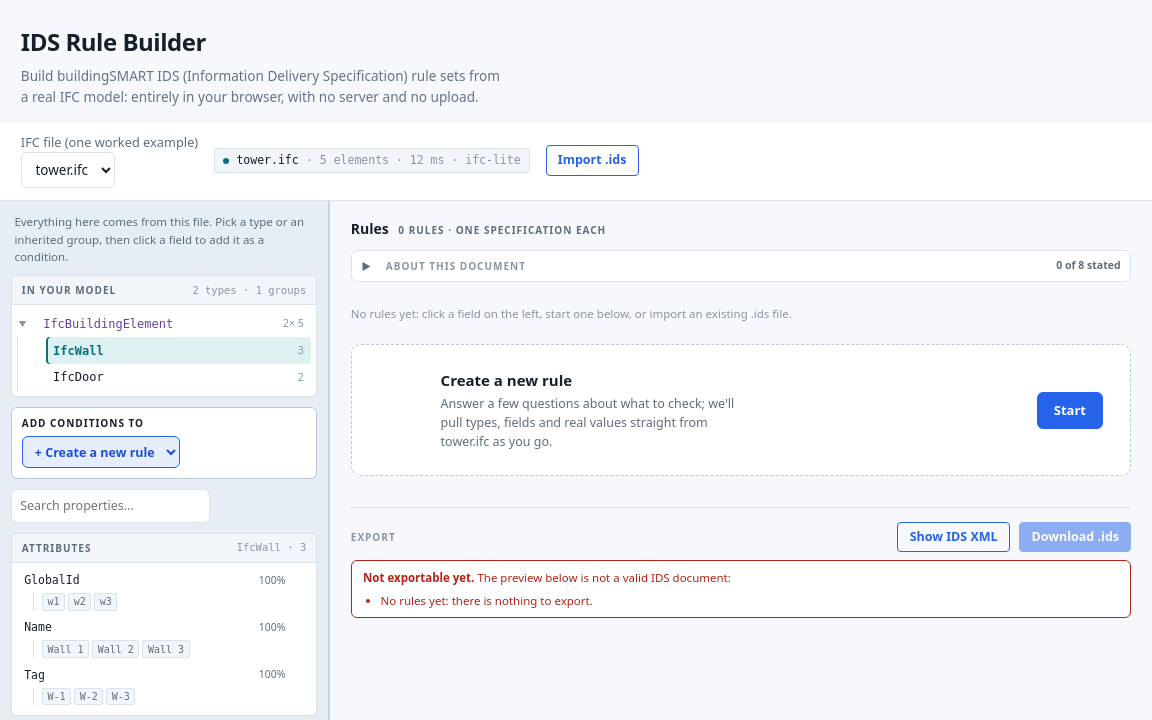
it: RuleBuilderPage › sorts properties alphabetically and narrows them with the search box
This screenshot has width=1152, height=720.
Expected: the list "▼ IfcBuildingElement 2× 5 IfcWall 3 IfcDoor 2" is shown, [17,310,311,391]
Type "stat" into the field labelled "Search properties" at (111, 506), box [11,489,210,523]
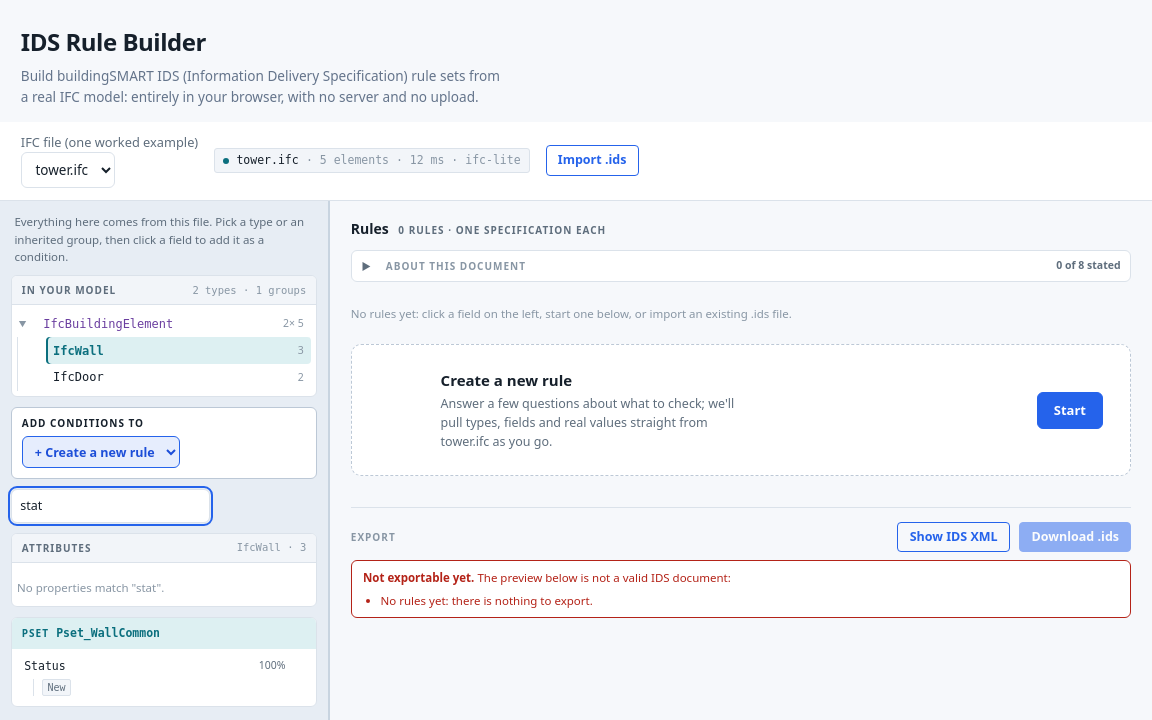
Replace the text in the field named "Search properties" with "nonsense" at (111, 506), box [11,489,210,523]
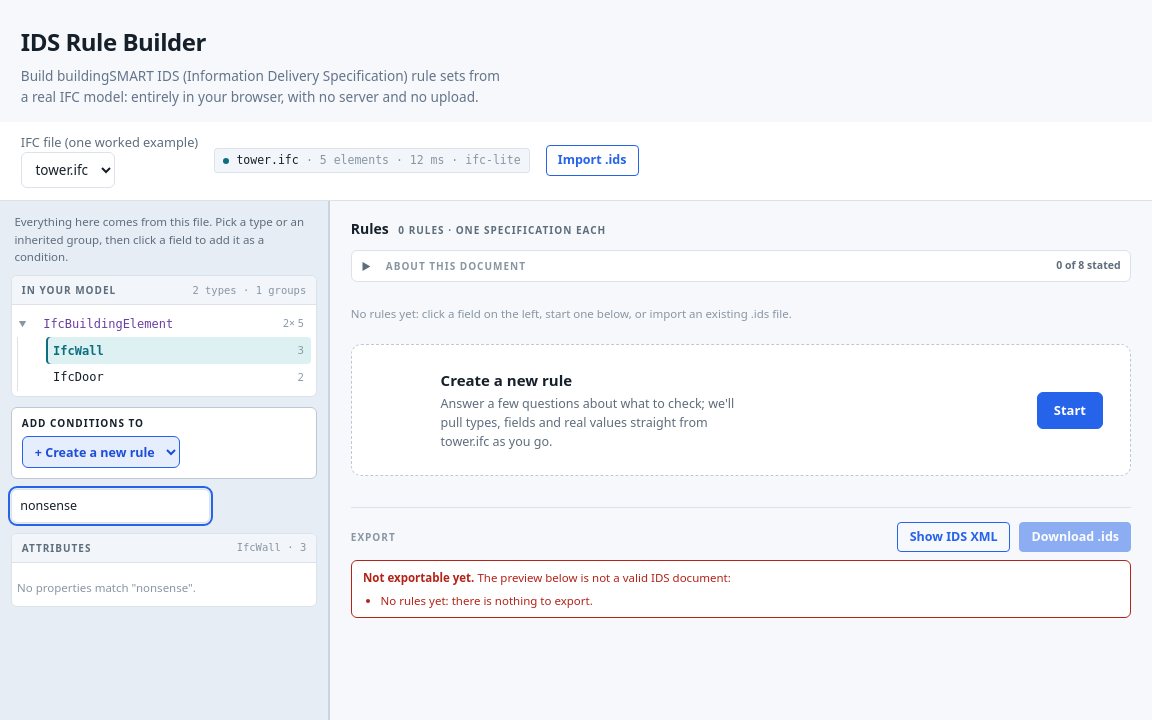
Expected: the text "No properties match \"nonsense\"." is shown, [17,580,196,595]
